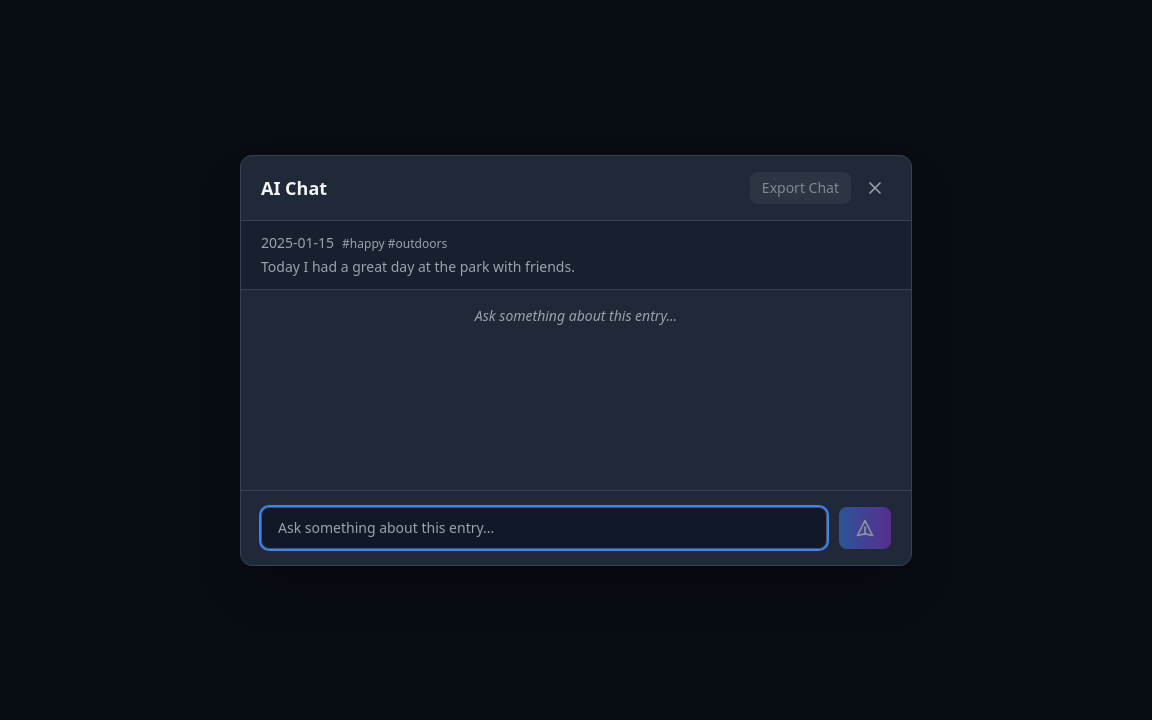
AiChatModal › Interactions › shows error message when AI returns null
In the text box with placeholder "Ask something about this entry...": (544,528) [261, 506, 827, 548], type "Hello"
Then press Enter
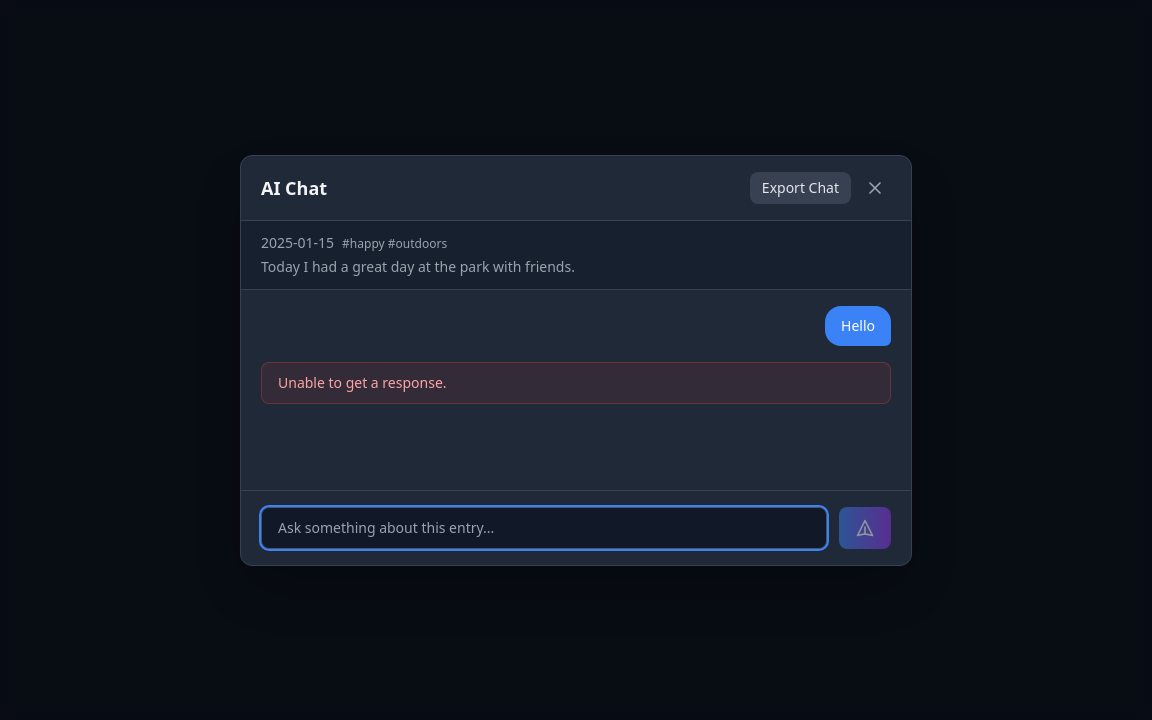
Now the text "Unable to get a response." is shown, box [261, 362, 891, 404]
